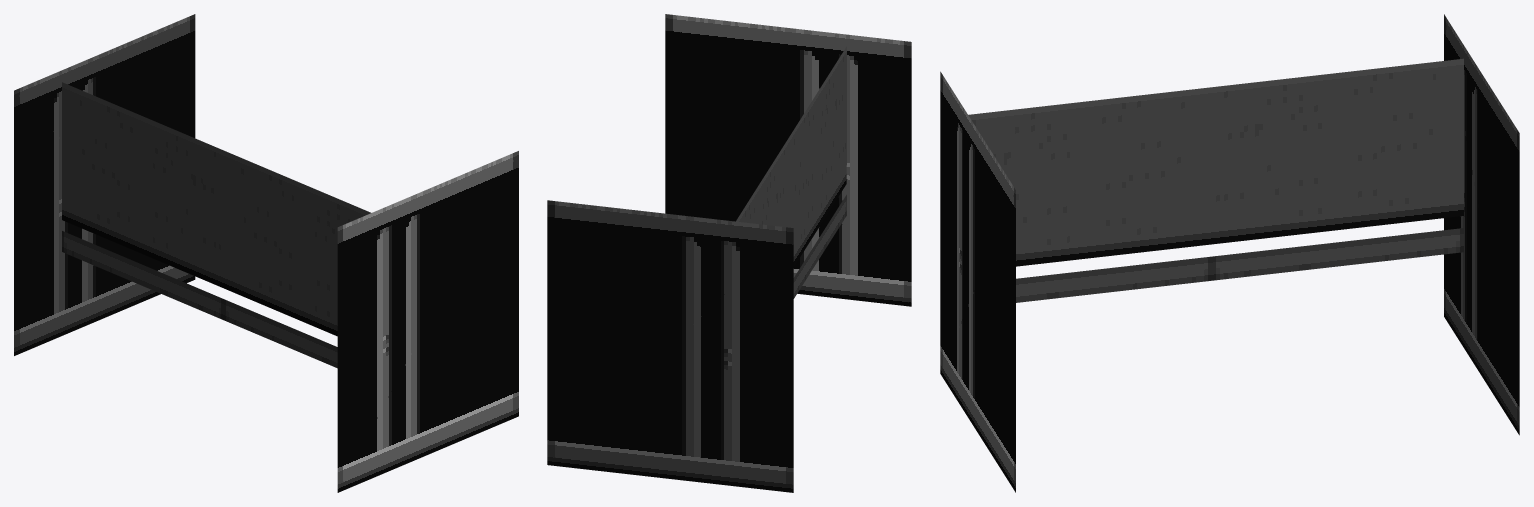
The model's file is aztec_metal_table_secondary.glb.
The picture shows the model from 3 angles, left to right: view 1: azimuth 30°, elevation 25°; view 2: azimuth 150°, elevation 25°; view 3: azimuth 270°, elevation 25°; orthographic projection. The views are drawn at different scales.
Parts seen in each view (by area): view 1: Object; view 2: Object; view 3: Object.
Boxes of the visible parts, box(x1,y1,x2,y2) form: Object: box(14, 14, 518, 492); Object: box(547, 14, 911, 492); Object: box(940, 14, 1519, 492).
Size of the model in its own units: 1.45 by 1.16 by 2.01.
Materials: 3 (3 with a texture image).
